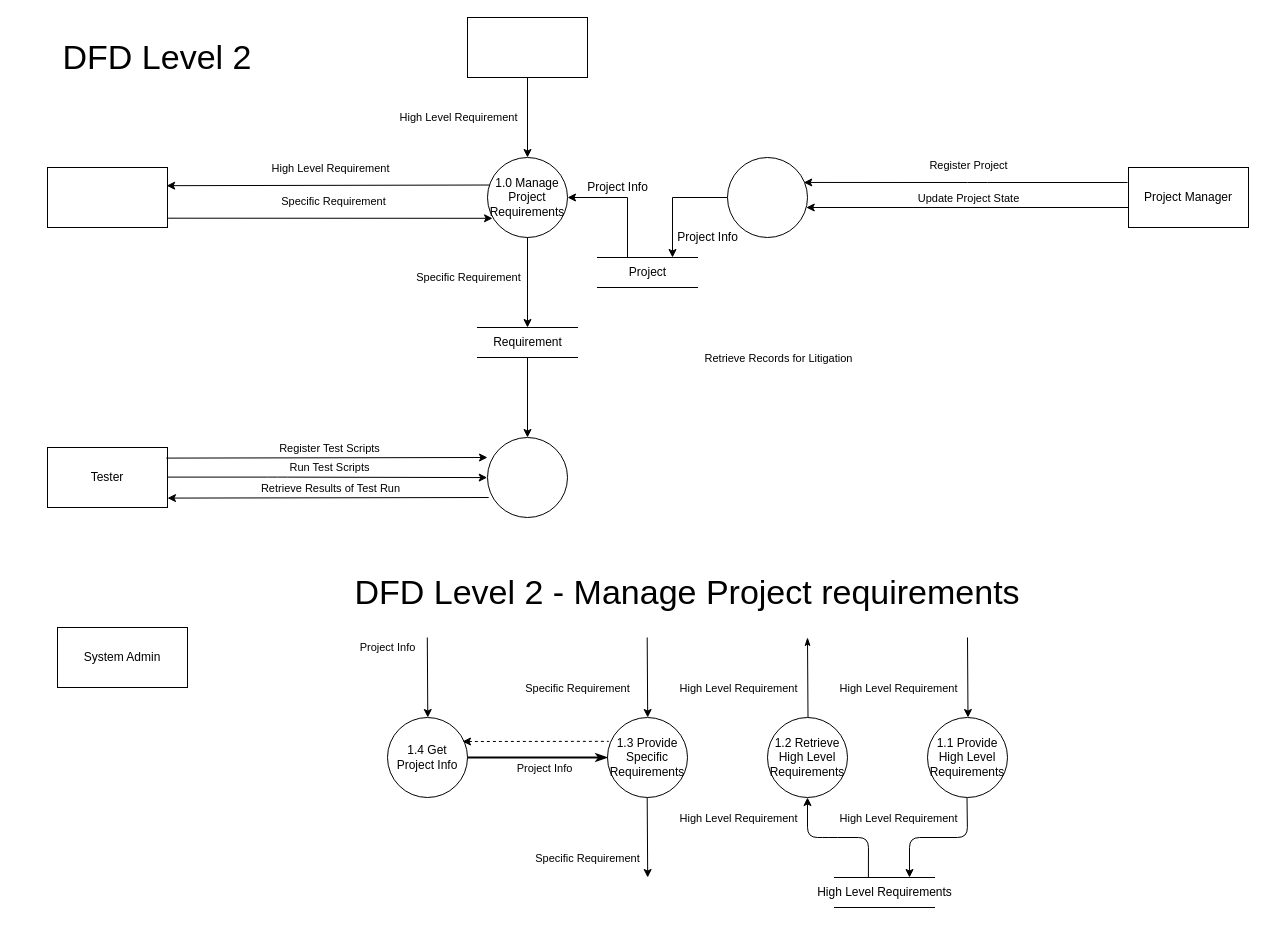
This 1266x925 diagram has some shape labels left out. Each missing label, with the box of its shape:
2.0 Manage Test: (486, 436, 568, 518)
4.0 Manage Projects: (726, 156, 808, 238)
Customer: (466, 16, 588, 78)
Orignator: (46, 166, 168, 228)
